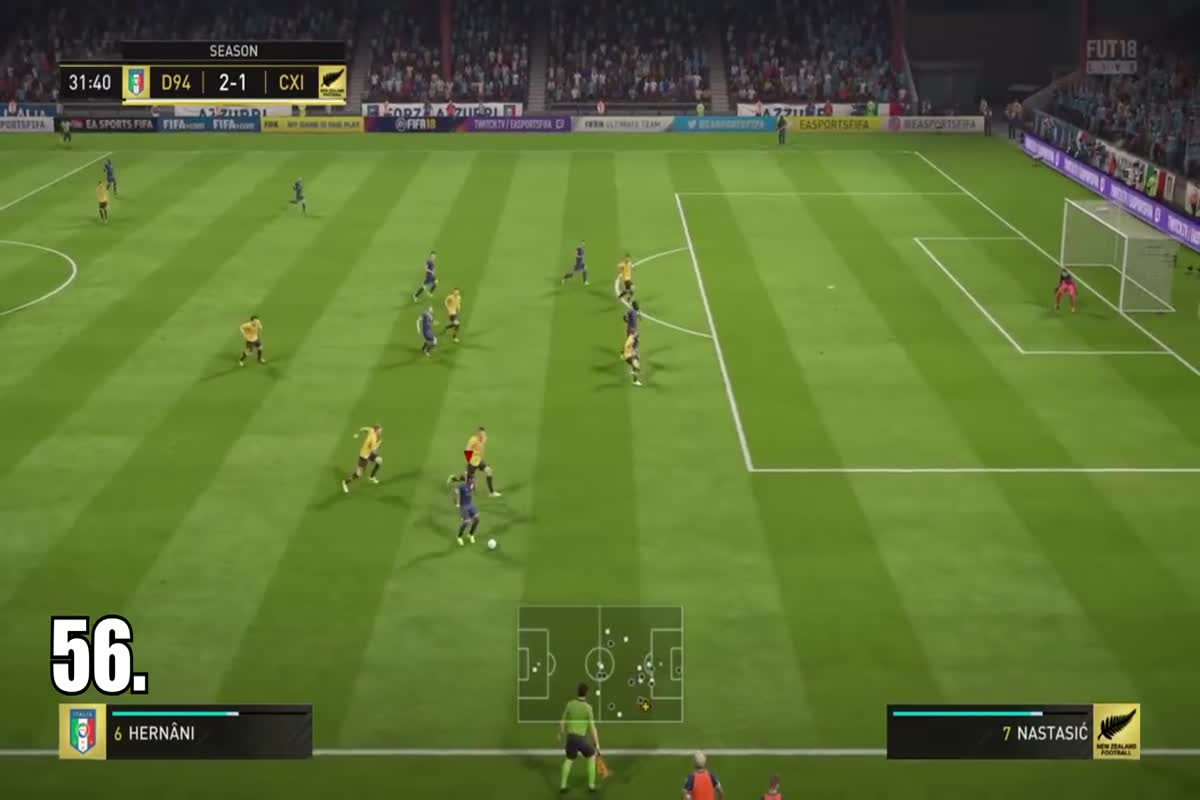ball: (479, 532, 509, 556)
